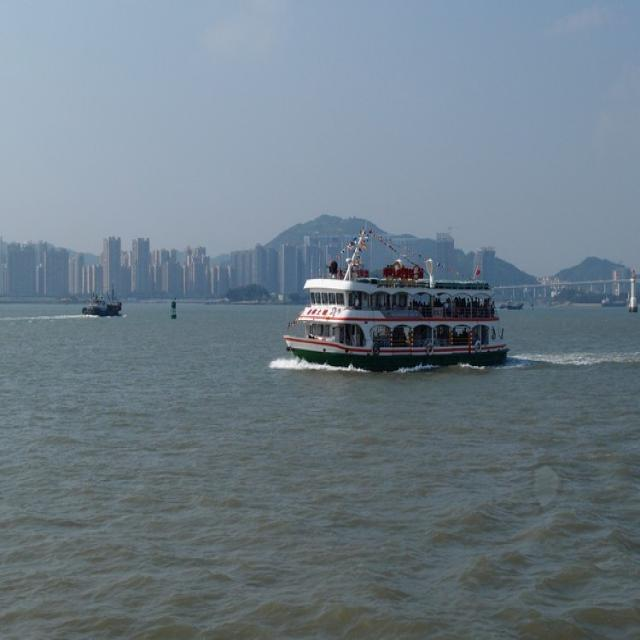passenger ship: (292, 228, 507, 362)
